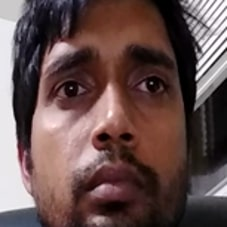drowsy: (42, 43, 177, 206)
